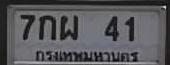1: (124, 16, 133, 40)
4: (104, 15, 118, 40)
7: (20, 14, 34, 39)
A01: (38, 14, 55, 39)
A28: (59, 14, 77, 39)
BKK: (32, 48, 141, 63)
